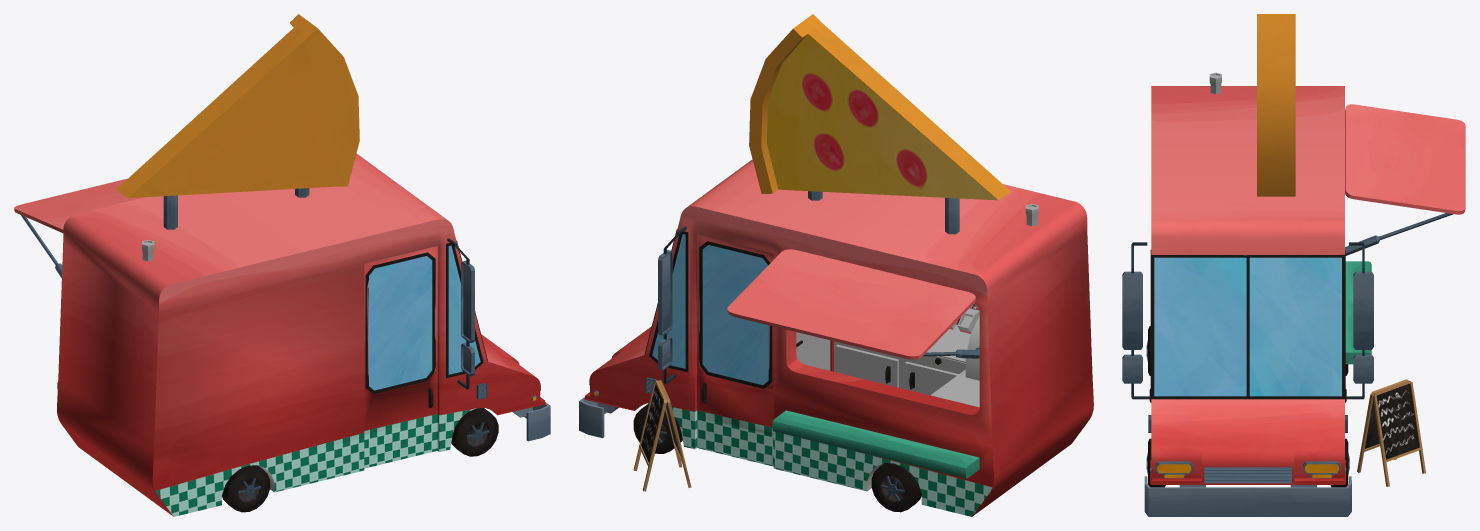
The model's file is FoodTruck 1.fbx.
The picture shows the model from 3 angles, left to right: view 1: azimuth 30°, elevation 25°; view 2: azimuth 150°, elevation 25°; view 3: azimuth 270°, elevation 25°; orthographic projection. The views are drawn at different scales.
Visible parts, largest first — view 1: Cylinder.043; view 2: Cylinder.043; view 3: Cylinder.043.
Boxes of the visible parts, <box> form: Cylinder.043: <box>14,14,550,516</box>; Cylinder.043: <box>579,14,1093,516</box>; Cylinder.043: <box>1122,14,1465,516</box>.
Bounding box in the file's own units: 634 × 644 × 471.
